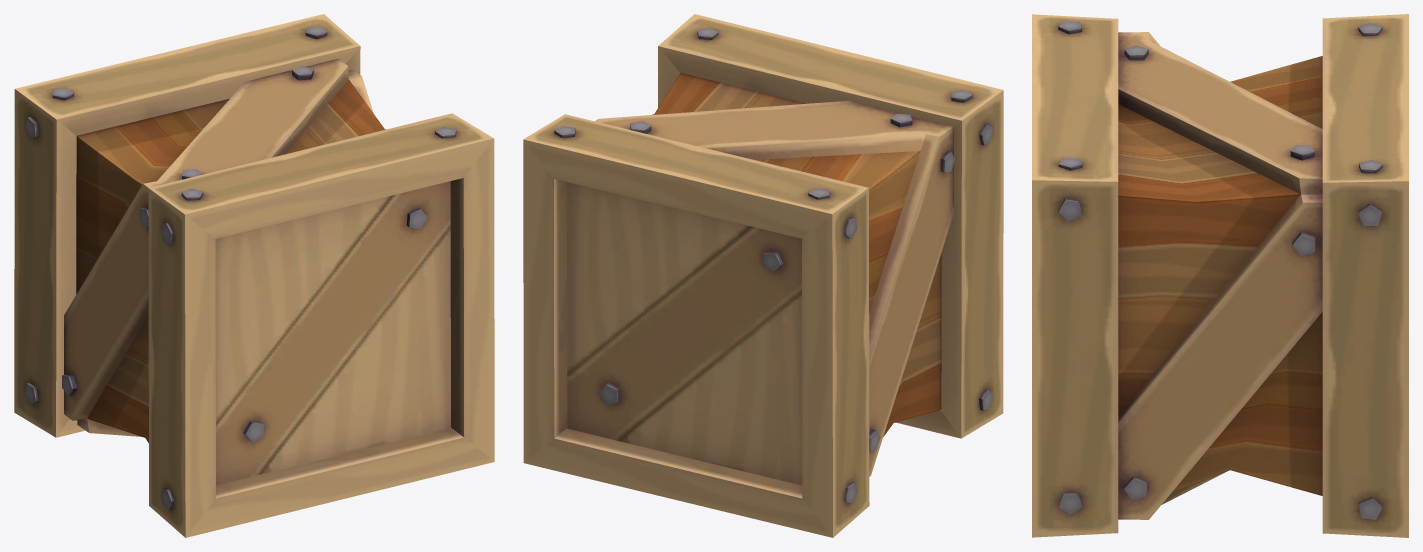
File: Crate.fbx
3 views of the same model, side by side, from view 1: azimuth 30°, elevation 25°; view 2: azimuth 150°, elevation 25°; view 3: azimuth 270°, elevation 25° (orthographic). The views are drawn at different scales.
Parts seen in each view (by area): view 1: Crate; view 2: Crate; view 3: Crate.
Part boxes in pixels (x1,y1,x2,y2): Crate: (14,14,494,537); Crate: (523,14,1003,537); Crate: (1032,14,1408,537).
Size of the model in its own units: 52.91 by 52.91 by 50.06.
